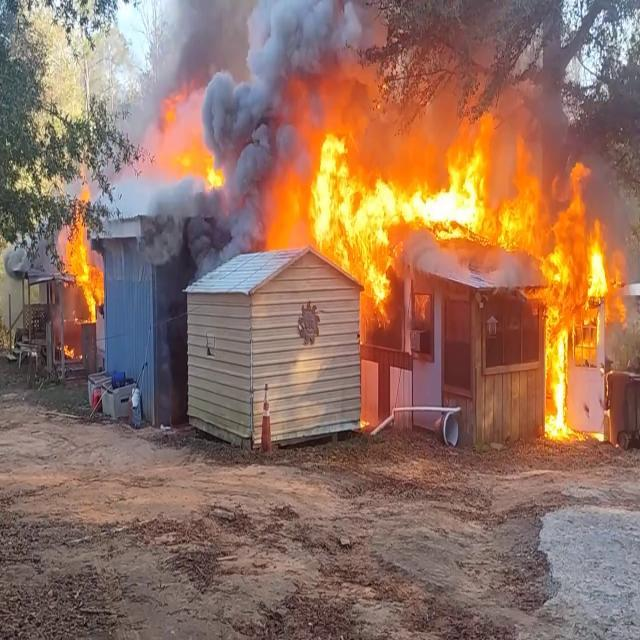Fire: (256, 100, 624, 442), (255, 102, 541, 304), (529, 162, 625, 444), (148, 85, 227, 191), (58, 186, 106, 322)
